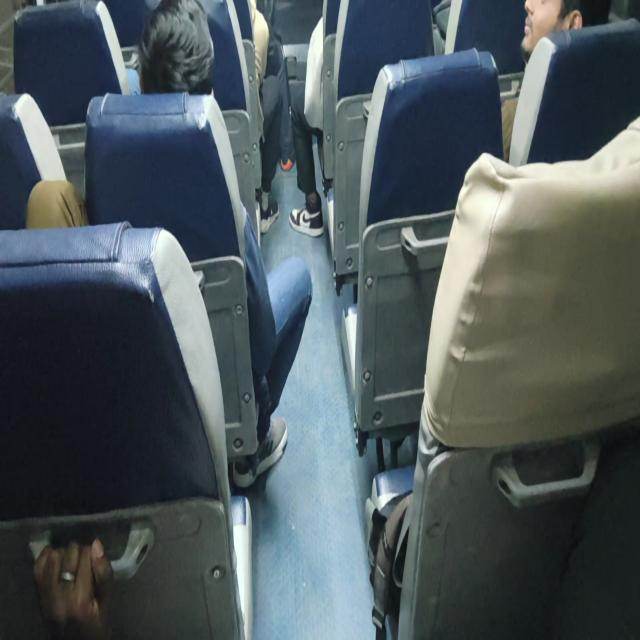person: (25, 0, 313, 488), (500, 0, 583, 161), (248, 0, 295, 234), (31, 535, 115, 638), (288, 15, 325, 238), (137, 0, 215, 95), (520, 0, 582, 65)
